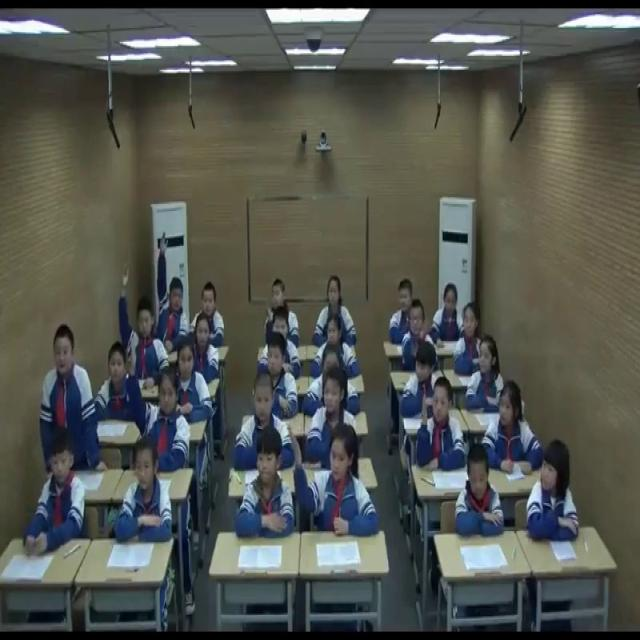focused: (38, 318, 105, 469), (26, 434, 84, 557), (235, 367, 298, 471), (237, 428, 296, 536), (116, 438, 174, 546), (302, 369, 360, 464), (486, 384, 544, 470), (528, 444, 577, 540), (454, 444, 504, 536), (301, 348, 359, 417), (314, 271, 358, 350), (259, 332, 299, 414), (173, 340, 213, 421), (468, 337, 510, 414), (93, 339, 131, 424), (402, 341, 444, 413), (312, 314, 358, 378), (451, 303, 490, 376), (399, 297, 438, 369), (263, 309, 301, 380), (267, 278, 303, 346), (432, 288, 468, 346), (195, 310, 224, 381), (386, 276, 421, 334), (201, 282, 227, 350)
raising_hand: (284, 418, 382, 538), (124, 325, 189, 473), (118, 261, 167, 377), (418, 373, 465, 475), (156, 230, 189, 351)
